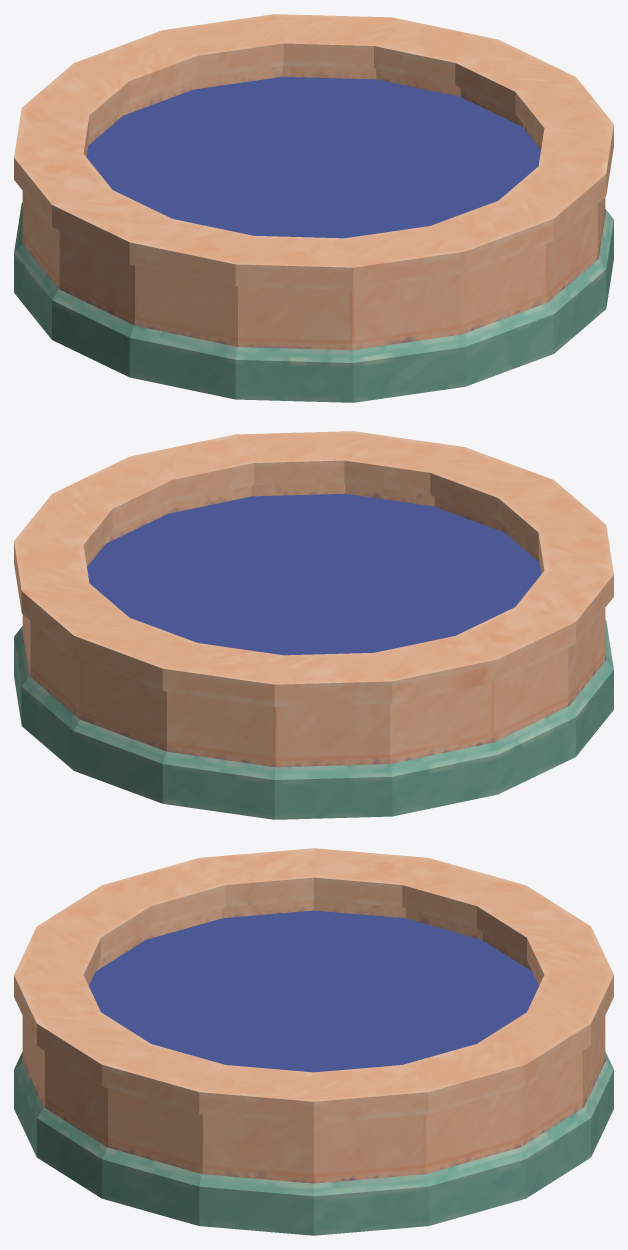
The model's file is vat_indigo.fbx.
3 renders of one model, top to bottom at view 1: azimuth 30°, elevation 25°; view 2: azimuth 150°, elevation 25°; view 3: azimuth 270°, elevation 25°, orthographic.
Parts seen in each view (by area): view 1: vat_indigo; view 2: vat_indigo; view 3: vat_indigo.
Boxes of the visible parts, <box> form: vat_indigo: <box>14,14,613,402</box>; vat_indigo: <box>14,431,613,819</box>; vat_indigo: <box>14,848,613,1235</box>.
Bounding box in the file's own units: 6.9 × 1.7 × 6.9.
Materials: 1 (1 with a texture image).
